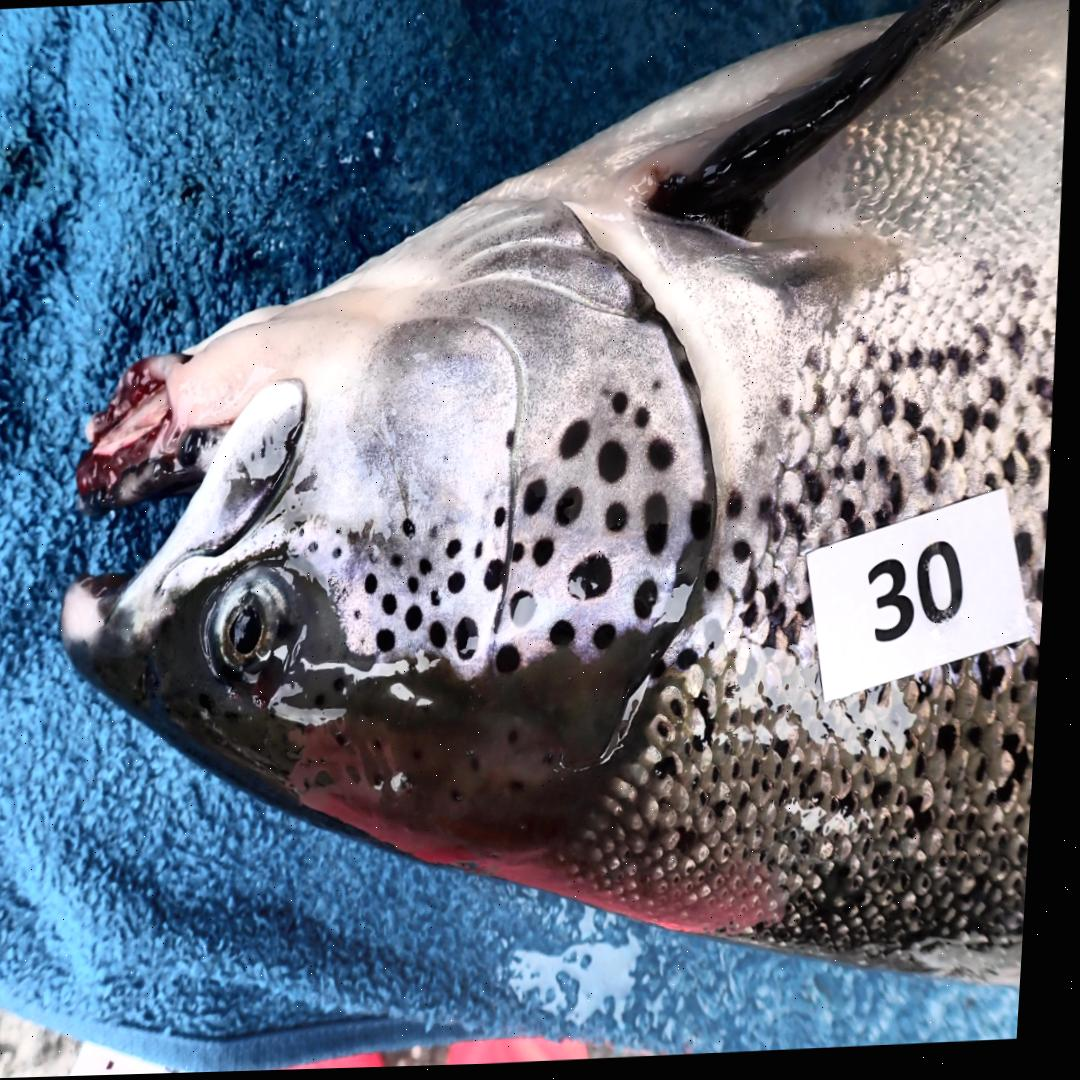spot: (575, 557, 619, 604), (651, 496, 675, 557), (605, 446, 634, 487), (566, 424, 595, 463), (463, 620, 487, 664), (562, 491, 589, 529), (518, 594, 545, 632), (642, 583, 667, 624), (653, 441, 681, 476), (530, 484, 554, 519), (697, 506, 719, 544), (504, 647, 530, 677), (491, 564, 515, 596), (539, 541, 561, 571), (559, 624, 583, 651), (612, 507, 634, 536), (602, 628, 624, 655), (437, 624, 454, 653), (413, 607, 431, 634), (384, 632, 404, 655), (639, 410, 656, 433), (456, 574, 473, 597), (452, 542, 468, 563), (618, 396, 633, 417), (408, 521, 423, 541), (426, 558, 441, 578), (390, 597, 405, 617), (657, 381, 670, 404), (371, 575, 384, 598), (520, 545, 533, 566), (501, 511, 512, 532), (415, 579, 428, 596), (481, 544, 492, 562), (438, 592, 449, 610), (398, 556, 411, 571), (512, 433, 521, 450), (435, 529, 445, 541), (376, 554, 385, 567), (316, 542, 324, 554), (339, 550, 348, 560), (361, 612, 368, 622), (306, 530, 311, 538), (343, 530, 347, 537)
